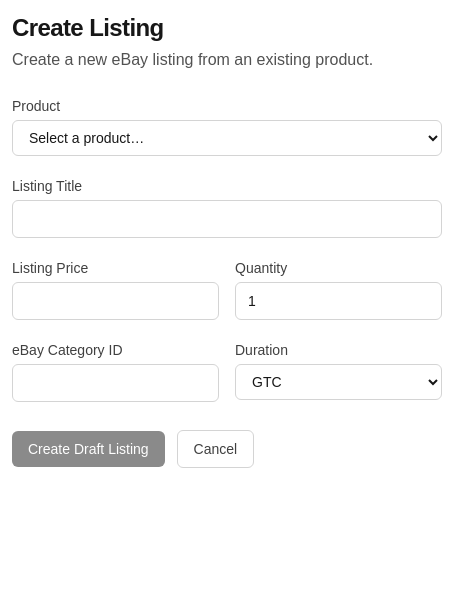
Test: NewListingForm › shows 'Calculating price…' while preview is loading
Step 1. Select "B0TEST1 — Test Product One" in the dropdown labelled "Product" → (227, 138), box [12,120,442,156]
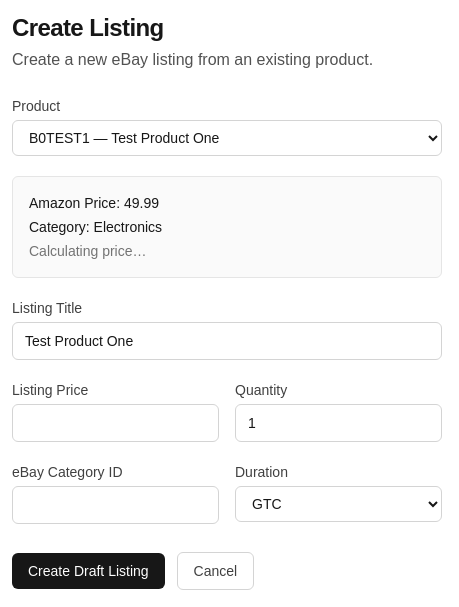
Now the text "Calculating price…" is shown, box [29,243,146,259]
